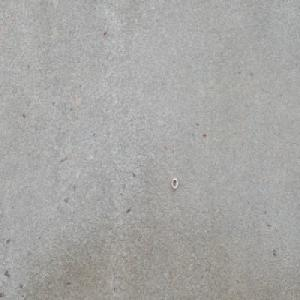Nut: (170, 176, 177, 189)
